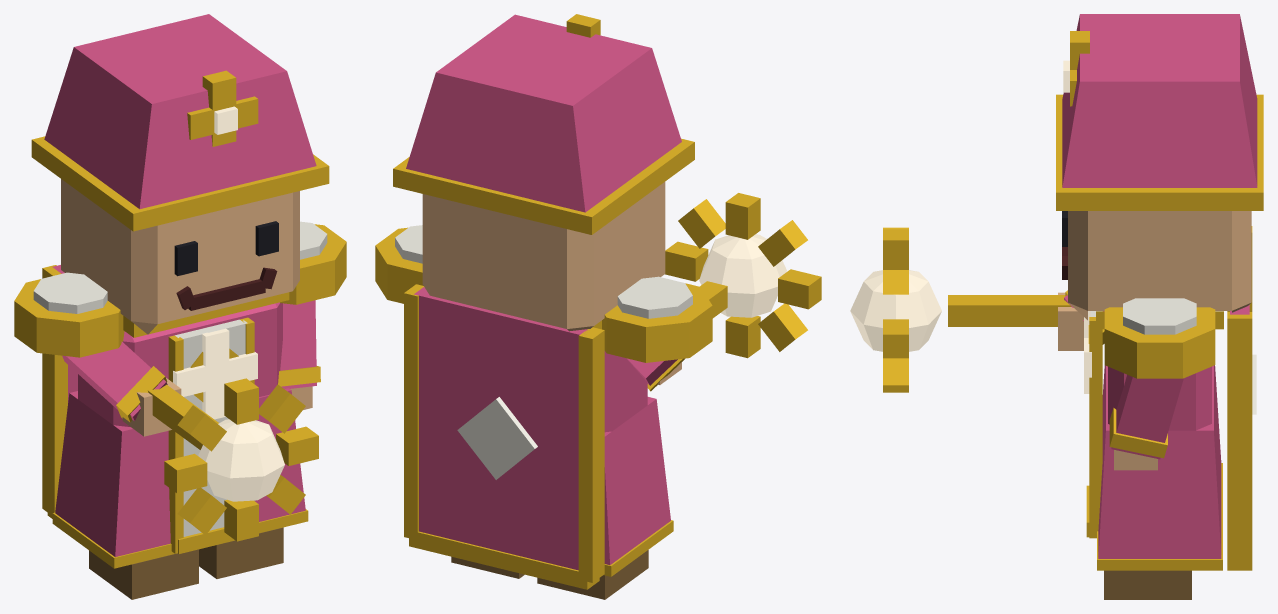
File: cleric_legend.glb
3 views of the same model, side by side, from view 1: azimuth 30°, elevation 25°; view 2: azimuth 150°, elevation 25°; view 3: azimuth 270°, elevation 25° (orthographic). The views are drawn at different scales.
Visible parts, largest first — view 1: cleric_legend_mesh; view 2: cleric_legend_mesh; view 3: cleric_legend_mesh.
Part boxes in pixels (x1,y1,x2,y2): cleric_legend_mesh: [14, 14, 346, 599]; cleric_legend_mesh: [375, 14, 821, 599]; cleric_legend_mesh: [850, 14, 1263, 599].
Bounding box in the file's own units: 0.8223 × 1.3 × 0.9279.
2 materials, 2 textured.
